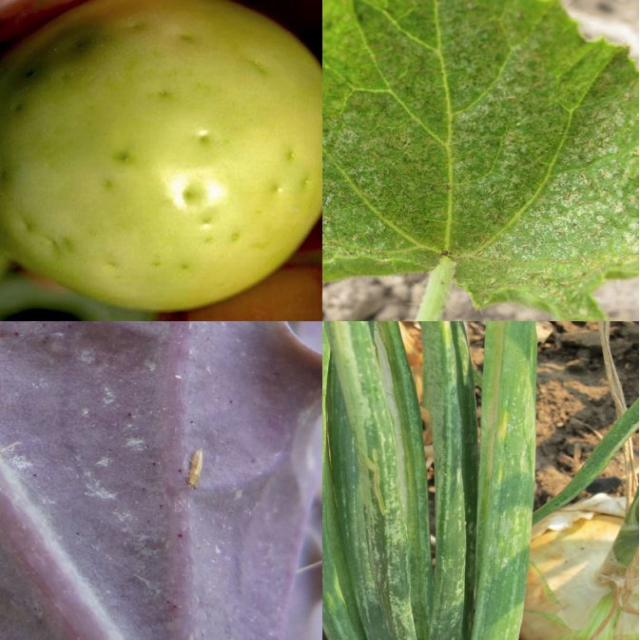Thrip-Adult-: (178, 440, 210, 495)
